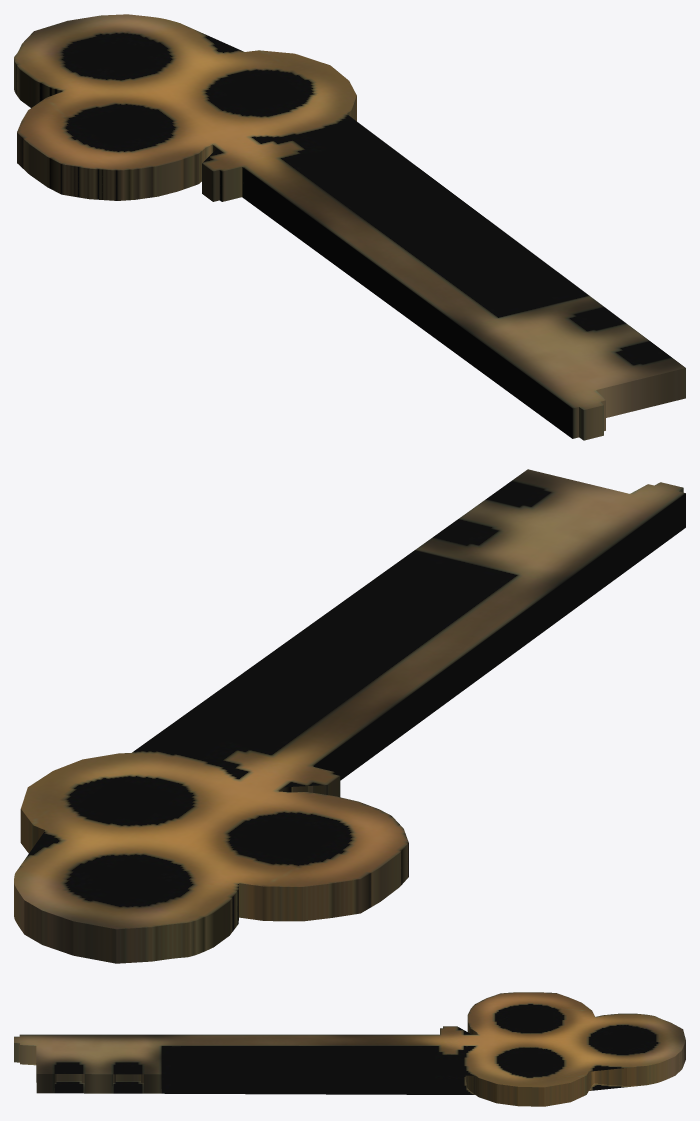
File: Llave.FBX
3 views of the same model, one above another, from view 1: azimuth 30°, elevation 25°; view 2: azimuth 150°, elevation 25°; view 3: azimuth 270°, elevation 25° (orthographic). The views are drawn at different scales.
Parts seen in each view (by area): view 1: Line001; view 2: Line001; view 3: Line001.
Part boxes in pixels (box(x1,y1,x2,y2)): Line001: box(14, 14, 685, 440); Line001: box(14, 469, 685, 963); Line001: box(14, 992, 685, 1106).
Bounding box in the file's own units: 36.37 × 3.45 × 108.
